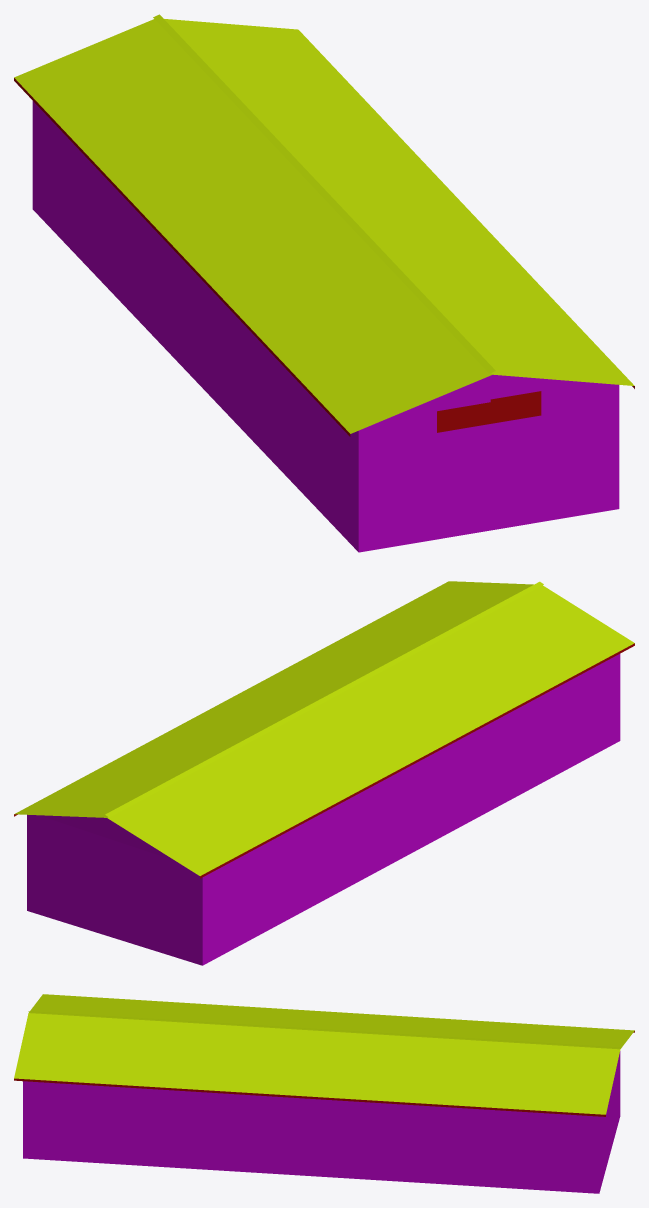
Rendered from bgj_178.glb.
3 views of the same model, one above another, from view 1: azimuth 30°, elevation 25°; view 2: azimuth 150°, elevation 25°; view 3: azimuth 270°, elevation 25° (orthographic). The views are drawn at different scales.
Visible parts, largest first — view 1: bgj_178; view 2: bgj_178; view 3: bgj_178.
Part boxes in pixels (box(x1,y1,x2,y2)): bgj_178: box(14, 14, 634, 552); bgj_178: box(14, 581, 634, 965); bgj_178: box(14, 994, 634, 1193).
Size of the model in its own units: 14.47 by 6.05 by 31.47.
